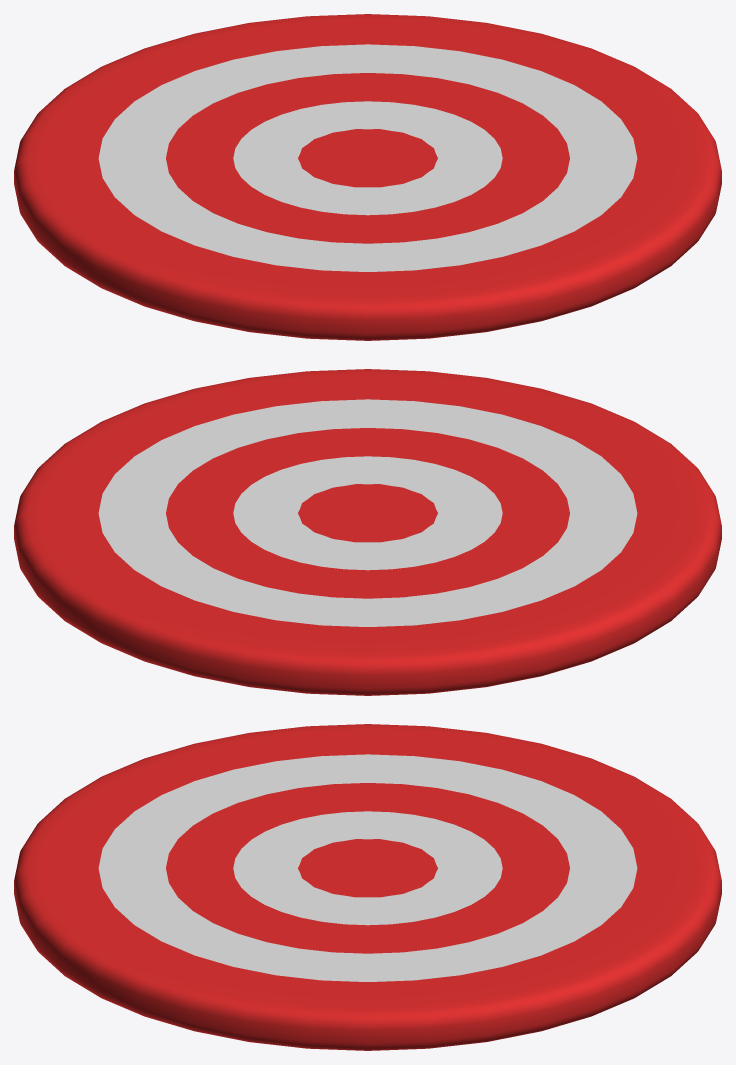
The model's file is Cylindre distructed normal.fbx.
3 renders of one model, top to bottom at view 1: azimuth 30°, elevation 25°; view 2: azimuth 150°, elevation 25°; view 3: azimuth 270°, elevation 25°, orthographic.
Parts seen in each view (by area): view 1: Cylindre_01; view 2: Cylindre_01; view 3: Cylindre_01.
Part boxes in pixels (x1,y1,x2,y2): Cylindre_01: (14, 14, 721, 340); Cylindre_01: (14, 369, 721, 695); Cylindre_01: (14, 724, 721, 1050).
Size of the model in its own units: 3.93 by 0.2355 by 3.93.
